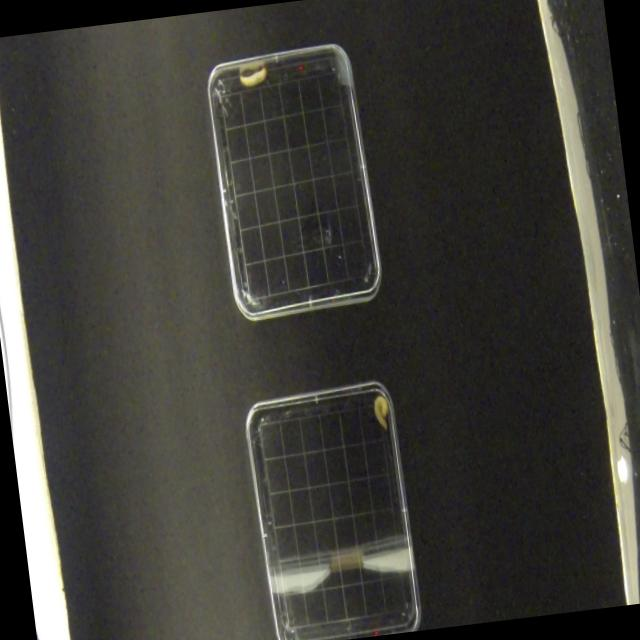larva: (237, 64, 270, 94), (373, 392, 391, 431)
